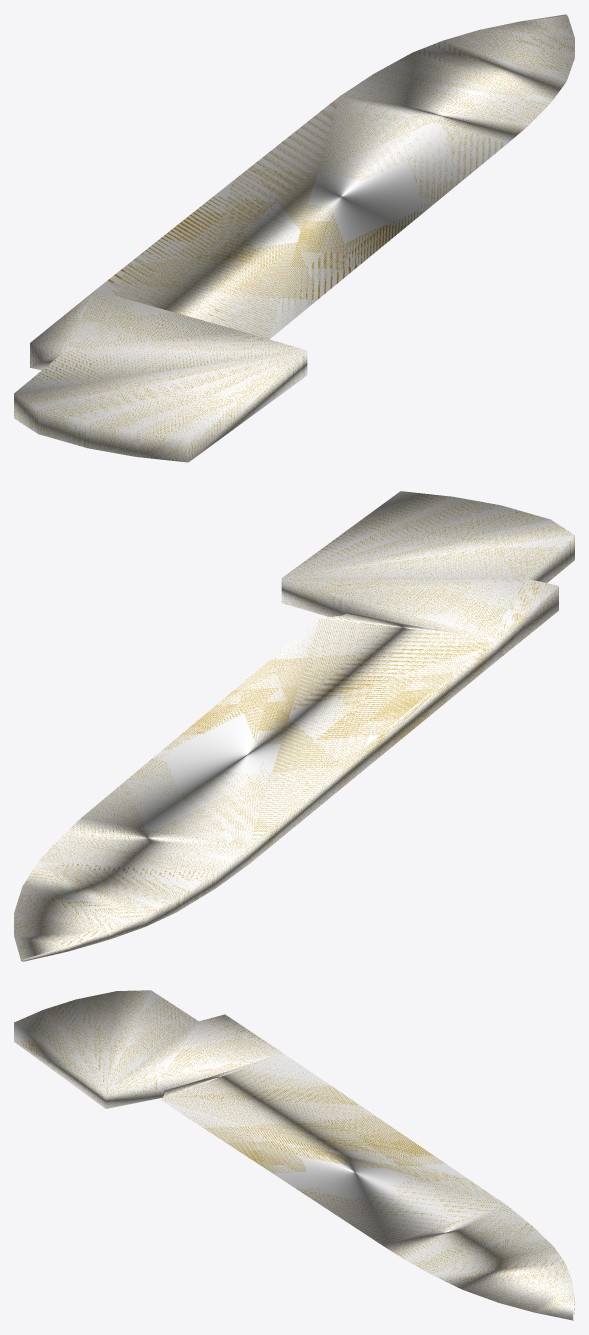
File: original-2.obj
3 renders of one model, top to bottom at view 1: azimuth 30°, elevation 25°; view 2: azimuth 210°, elevation 25°; view 3: azimuth 270°, elevation 25°, orthographic. The views are drawn at different scales.
Visible parts, largest first — view 1: BLADE_SMAL1/BLADE_SMAL/mesh2/mesh2-geometry#mesh2-geometry; view 2: BLADE_SMAL1/BLADE_SMAL/mesh2/mesh2-geometry#mesh2-geometry; view 3: BLADE_SMAL1/BLADE_SMAL/mesh2/mesh2-geometry#mesh2-geometry.
Boxes of the visible parts, left/top/right/bottom form: BLADE_SMAL1/BLADE_SMAL/mesh2/mesh2-geometry#mesh2-geometry: left=14, top=14, right=574, bottom=462; BLADE_SMAL1/BLADE_SMAL/mesh2/mesh2-geometry#mesh2-geometry: left=14, top=491, right=574, bottom=961; BLADE_SMAL1/BLADE_SMAL/mesh2/mesh2-geometry#mesh2-geometry: left=14, top=990, right=574, bottom=1320.
Size of the model in its own units: 0.5349 by 0.0154 by 0.4071.
